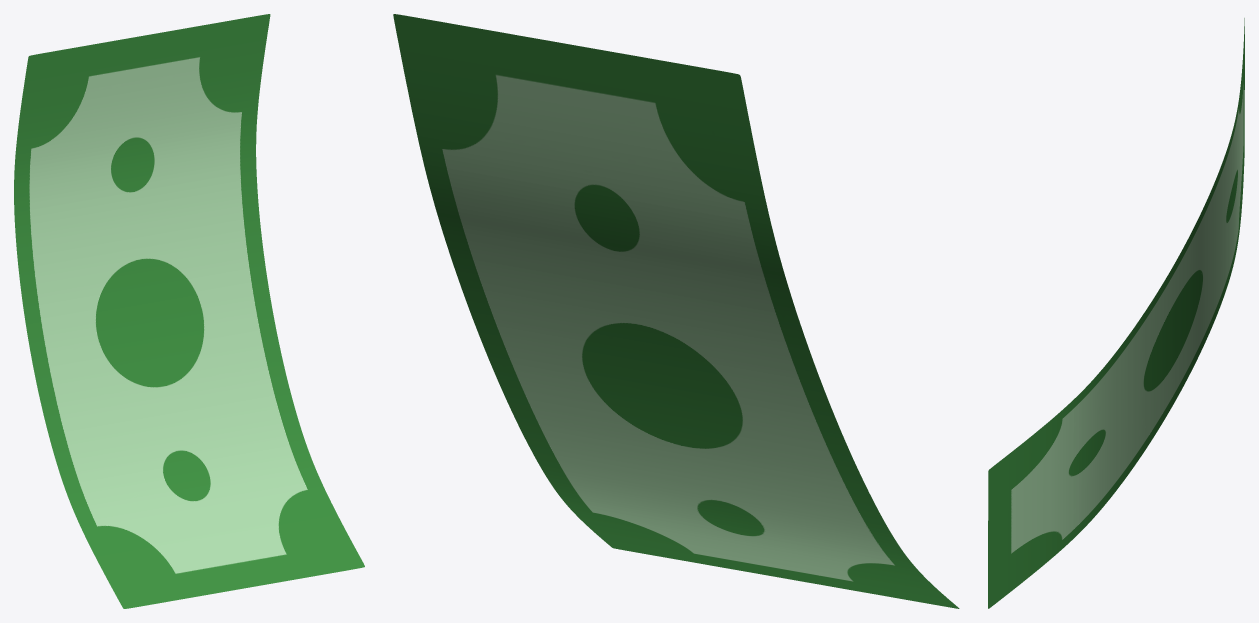
File: billet.glb
3 views of the same model, side by side, from view 1: azimuth 30°, elevation 25°; view 2: azimuth 150°, elevation 25°; view 3: azimuth 270°, elevation 25° (orthographic). The views are drawn at different scales.
Parts seen in each view (by area): view 1: Billet; view 2: Billet; view 3: Billet.
Boxes of the visible parts, box(x1,y1,x2,y2) form: Billet: box(14, 14, 364, 608); Billet: box(393, 14, 959, 608); Billet: box(988, 18, 1244, 608).
Bounding box in the file's own units: 1.59 × 2.58 × 1.23.
Materials: 1 (1 with a texture image).
